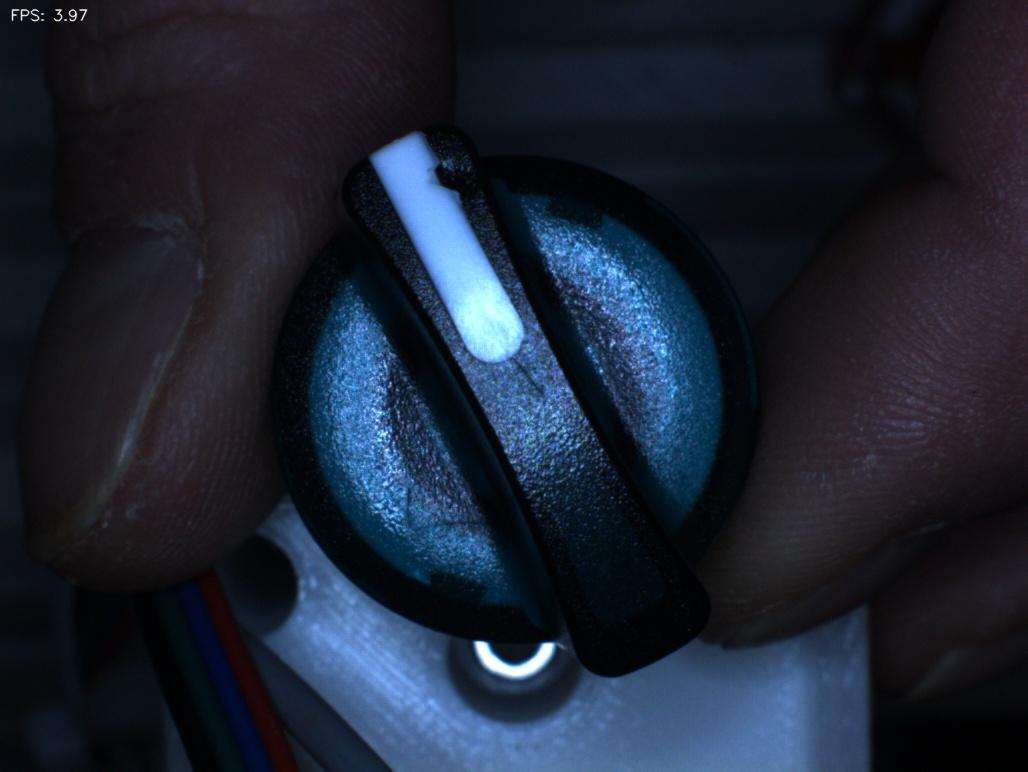Choc: (404, 121, 498, 211)
